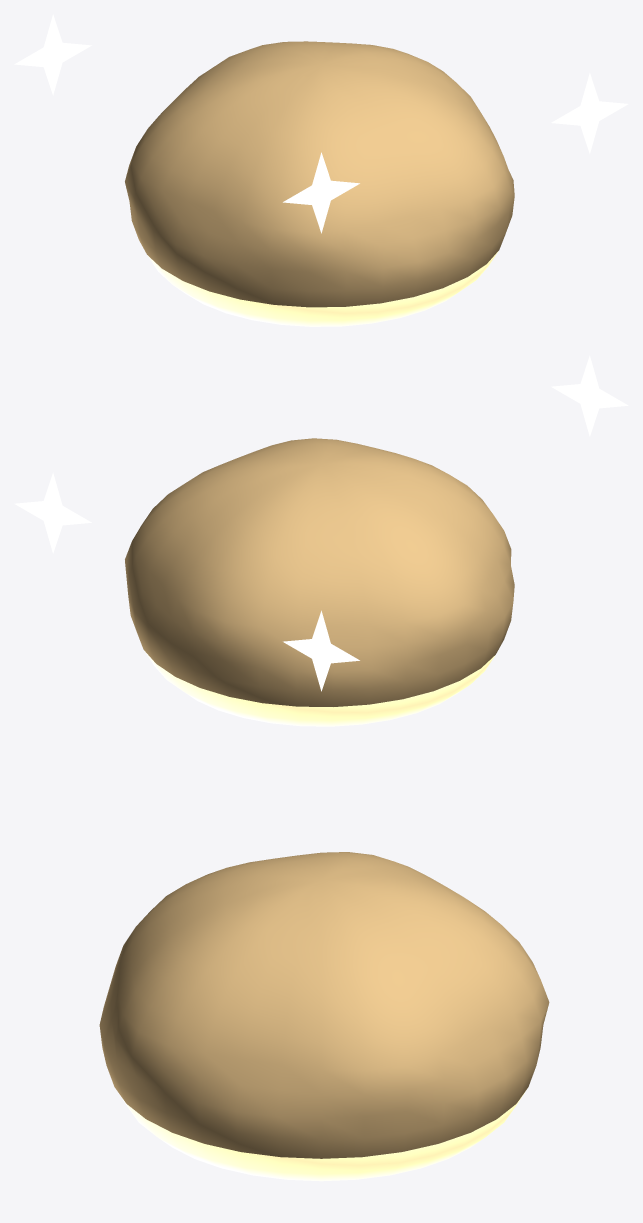
Rendered from bread.glb.
3 renders of one model, top to bottom at view 1: azimuth 30°, elevation 25°; view 2: azimuth 150°, elevation 25°; view 3: azimuth 270°, elevation 25°, orthographic. The views are drawn at different scales.
Parts seen in each view (by area): view 1: BR_Bread, BR_Sparkle_2, BR_Sparkle_1, BR_Sparkle_0; view 2: BR_Bread, BR_Sparkle_0, BR_Sparkle_1, BR_Sparkle_2; view 3: BR_Bread.
Part boxes in pixels (left/top/right/bottom): BR_Bread: left=125, top=41, right=514, bottom=326; BR_Sparkle_2: left=283, top=152, right=359, bottom=233; BR_Sparkle_1: left=14, top=14, right=91, bottom=95; BR_Sparkle_0: left=551, top=73, right=628, bottom=153; BR_Bread: left=125, top=438, right=514, bottom=726; BR_Sparkle_0: left=14, top=472, right=91, bottom=553; BR_Sparkle_1: left=283, top=610, right=359, bottom=691; BR_Sparkle_2: left=551, top=355, right=628, bottom=436; BR_Bread: left=99, top=852, right=549, bottom=1181.
Size of what is drawn, in the model's own units: 0.43 by 0.205 by 0.4157.
